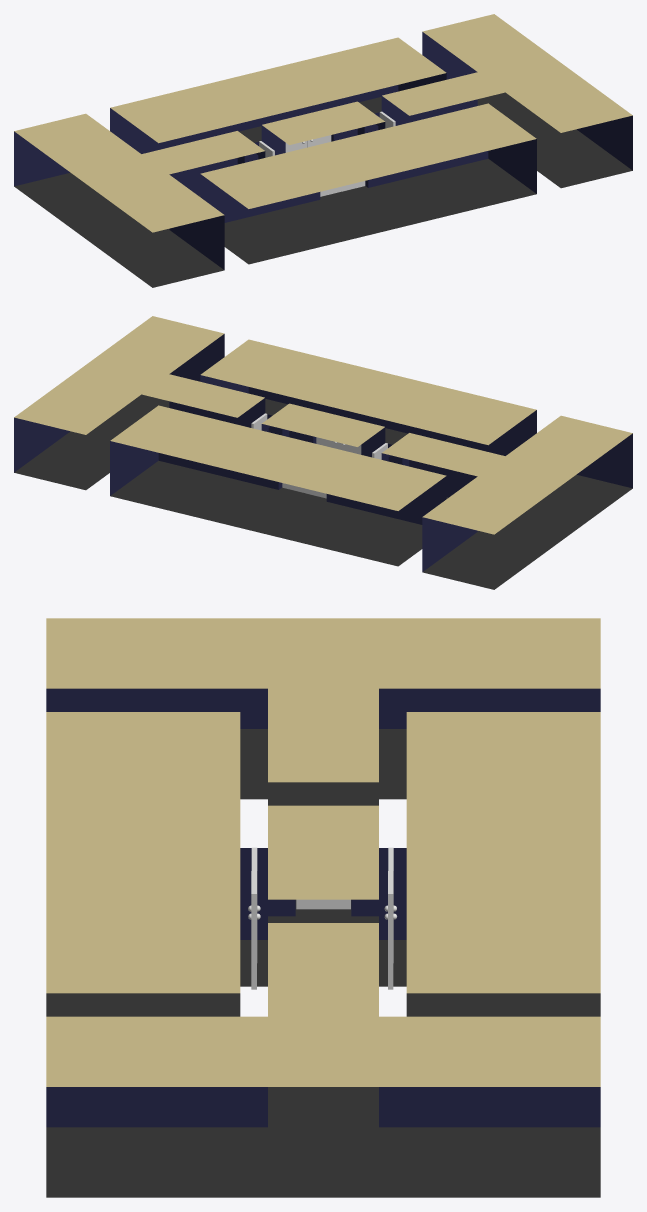
The model's file is ROOM.fbx.
The picture shows the model from 3 angles, top to bottom: view 1: azimuth 30°, elevation 25°; view 2: azimuth 150°, elevation 25°; view 3: azimuth 270°, elevation 25°; orthographic projection. The views are drawn at different scales.
Parts seen in each view (by area): view 1: Plane; view 2: Plane; view 3: Plane.
Part boxes in pixels (x1,y1,x2,y2): Plane: (14, 14, 632, 287); Plane: (14, 316, 632, 589); Plane: (46, 618, 600, 1197).
Bounding box in the file's own units: 3636 × 411 × 1818.
